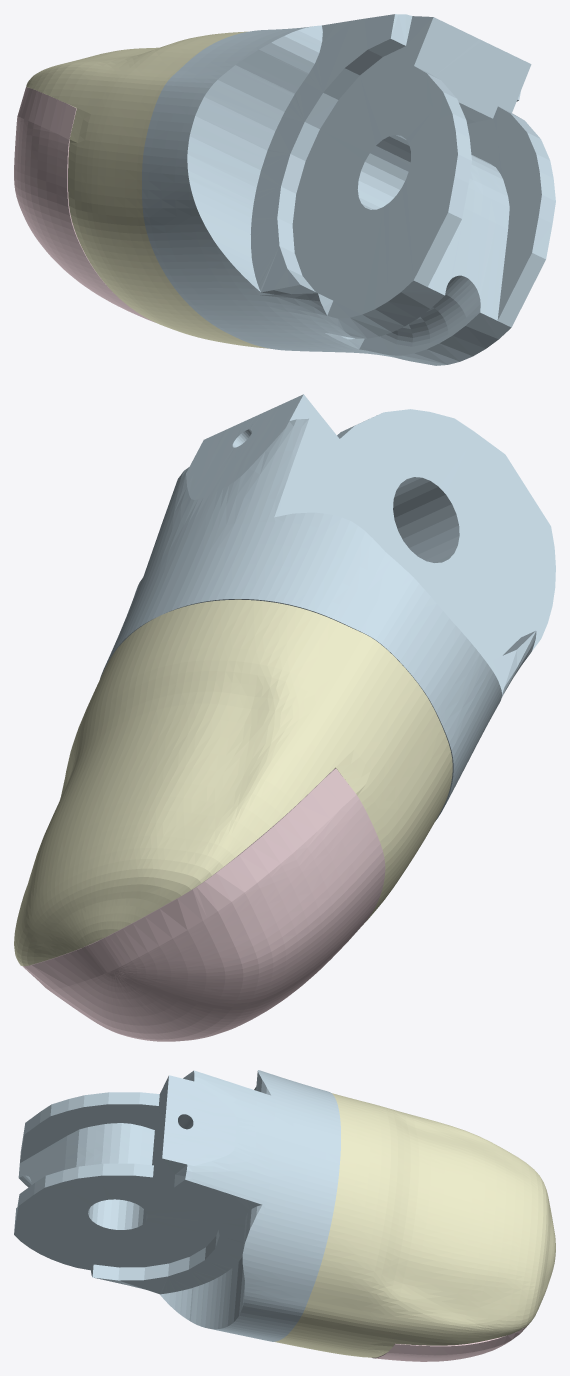
Rendered from i02_leftHand_pinkyTip_visual.obj.full.glb.
The picture shows the model from 3 angles, top to bottom: view 1: azimuth 30°, elevation 25°; view 2: azimuth 150°, elevation 25°; view 3: azimuth 270°, elevation 25°; orthographic projection. The views are drawn at different scales.
Size of the model in its own units: 0.1654 by 0.1995 by 0.3261.
